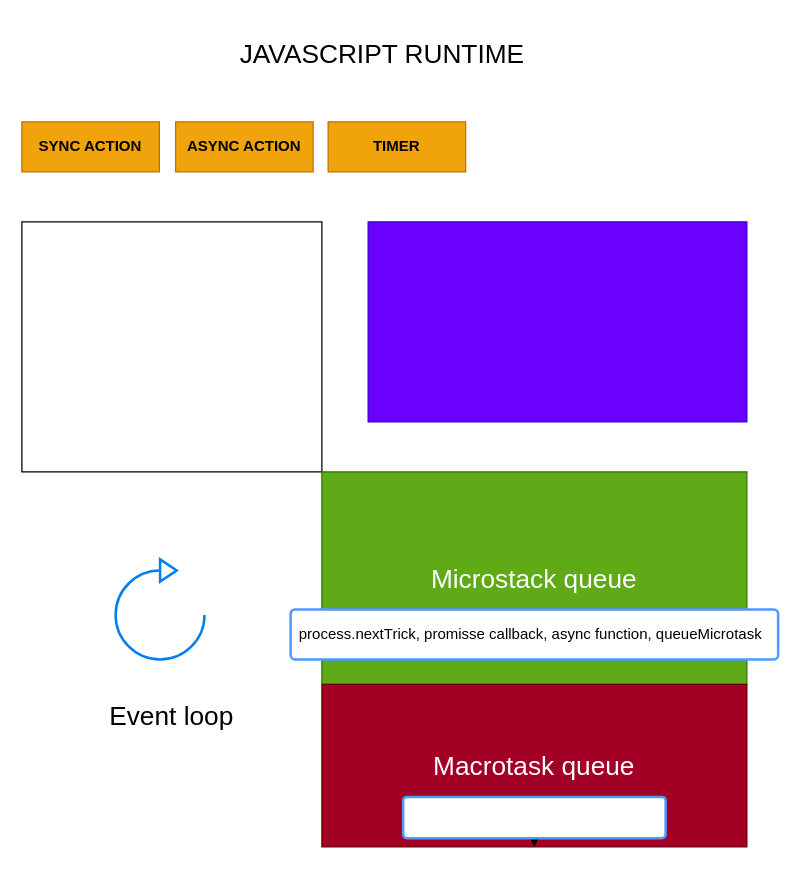
Image size: 801x879. Some labels were removed from this diagram. The shapes that lost their labels are listed below. From the top down, each one's centre as x and y in pixels, then its label:
At point 557,321: "Web apis".
At point 171,346: "Call stack".
At point 533,817: "setTimeout, setInterval, setImediate".
